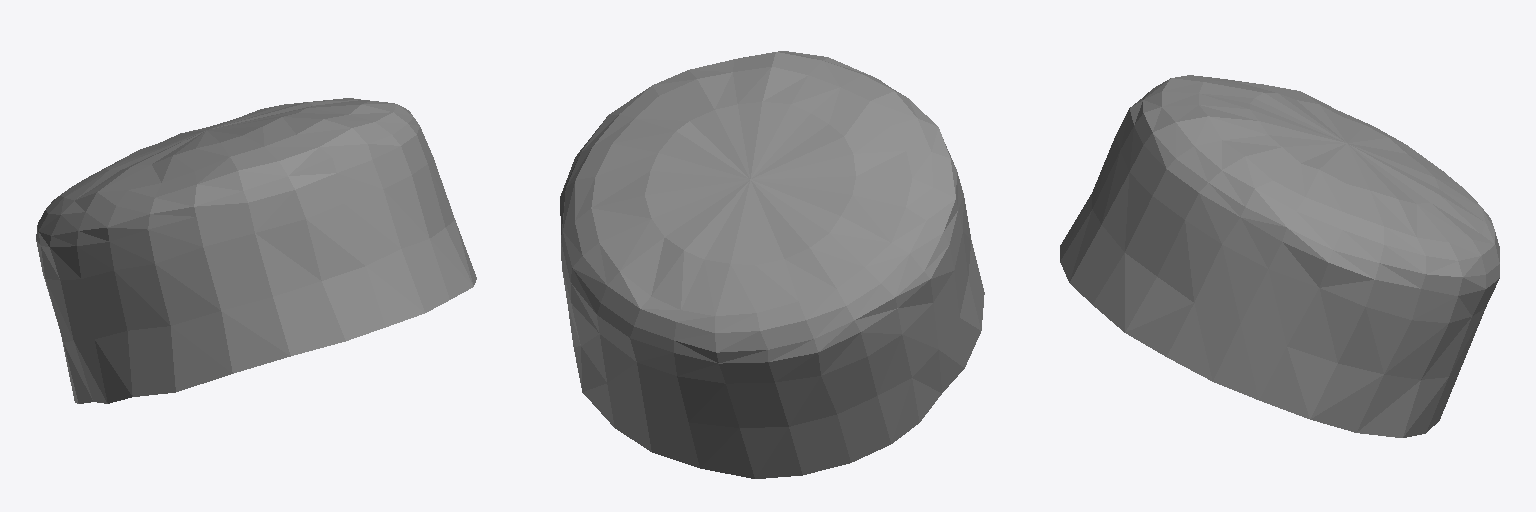
The model's file is right_a_button.obj.
3 renders of one model, left to right at view 1: azimuth 30°, elevation 25°; view 2: azimuth 150°, elevation 25°; view 3: azimuth 270°, elevation 25°, orthographic.
Visible parts, largest first — view 1: right_a_button; view 2: right_a_button; view 3: right_a_button.
Part boxes in pixels (x1,y1,x2,y2): right_a_button: (36, 98, 476, 403); right_a_button: (560, 51, 984, 478); right_a_button: (1060, 75, 1499, 437).
Bounding box in the file's own units: 0.0092 × 0.0074 × 0.0095.